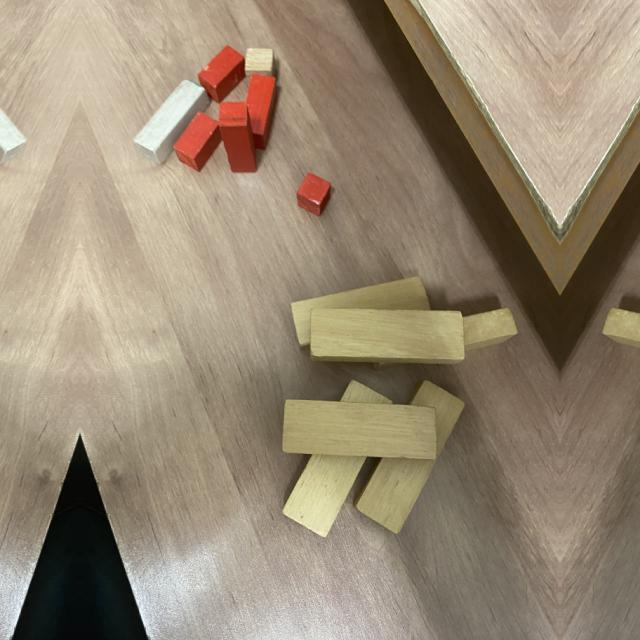block: (132, 79, 211, 165), (0, 107, 28, 164)
cube: (245, 48, 273, 78)
jenga: (280, 380, 437, 539), (353, 380, 465, 536), (289, 275, 431, 352), (283, 399, 437, 459), (310, 307, 465, 365), (462, 308, 518, 351), (602, 308, 640, 348)
red block: (173, 111, 222, 172), (198, 45, 246, 104), (219, 101, 257, 172), (246, 74, 277, 150)
red cube: (296, 172, 331, 216)
